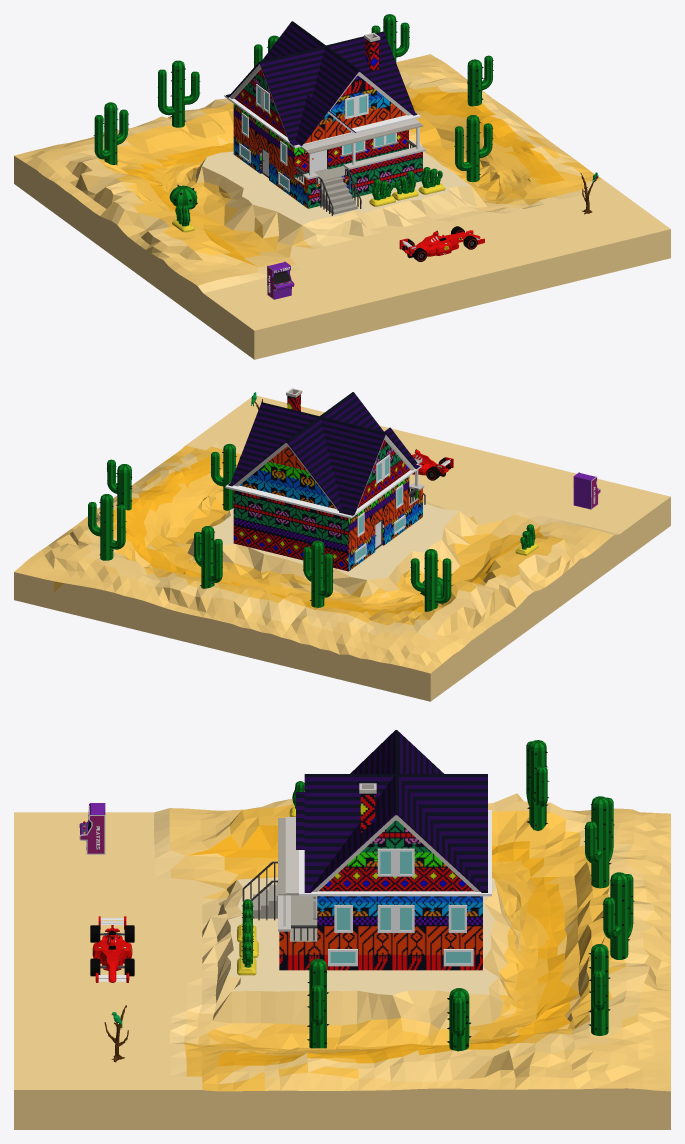
The picture shows the model from 3 angles, top to bottom: view 1: azimuth 30°, elevation 25°; view 2: azimuth 150°, elevation 25°; view 3: azimuth 270°, elevation 25°; orthographic projection. The views are drawn at different scales.
Parts seen in each view (by area): view 1: Cube.001, Cube.966, Cylinder.037, Cylinder.044, Cylinder.045, VEHICLES_FORMULA_1, Cylinder.038, Cylinder.042, OBJRANDOM_ARCADE, Cylinder.039, Cylinder.041, Sphere.023 (+1 smaller); view 2: Cube.001, Cube.966, Cylinder.042, Cylinder.045, Cylinder.044, Cylinder.043, Cylinder.037, Cylinder.038, OBJRANDOM_ARCADE, VEHICLES_FORMULA_1; view 3: Cube.001, Cube.966, VEHICLES_FORMULA_1, Cylinder.043, Cylinder.044, Cylinder.045, Cylinder.042, Cylinder.037, Cylinder.038, OBJRANDOM_ARCADE, Cylinder.041.
Part boxes in pixels (x1,y1,x2,y2): Cube.001: (14,54,670,359); Cube.966: (224,21,425,215); Cylinder.037: (454,115,493,182); Cylinder.044: (157,60,200,127); Cylinder.045: (93,102,129,164); VEHICLES_FORMULA_1: (399,226,484,261); Cylinder.038: (467,55,493,106); Cylinder.042: (371,14,409,62); OBJRANDOM_ARCADE: (267,261,294,299); Cylinder.039: (369,179,395,206); Cylinder.041: (418,167,445,194); Sphere.023: (169,184,197,209); Cube.001: (14,395,670,701); Cube.966: (225,388,425,571); Cylinder.042: (88,494,126,560); Cylinder.045: (410,549,452,611); Cylinder.044: (303,540,333,607); Cylinder.043: (193,526,222,588); Cylinder.037: (211,444,240,510); Cylinder.038: (107,459,131,510); OBJRANDOM_ARCADE: (573,472,600,509); VEHICLES_FORMULA_1: (410,449,453,480); Cube.001: (14,793,670,1129); Cube.966: (242,730,491,970); VEHICLES_FORMULA_1: (90,916,134,982); Cylinder.043: (602,872,634,959); Cylinder.044: (584,796,614,888); Cylinder.045: (526,740,549,830); Cylinder.042: (588,944,610,1035); Cylinder.037: (307,959,329,1048); Cylinder.038: (447,988,471,1051); OBJRANDOM_ARCADE: (79,803,105,854); Cylinder.041: (237,932,256,975).
Bounding box in the file's own units: 4002 × 1627 × 4001.
Materials: 45 (6 with a texture image).
